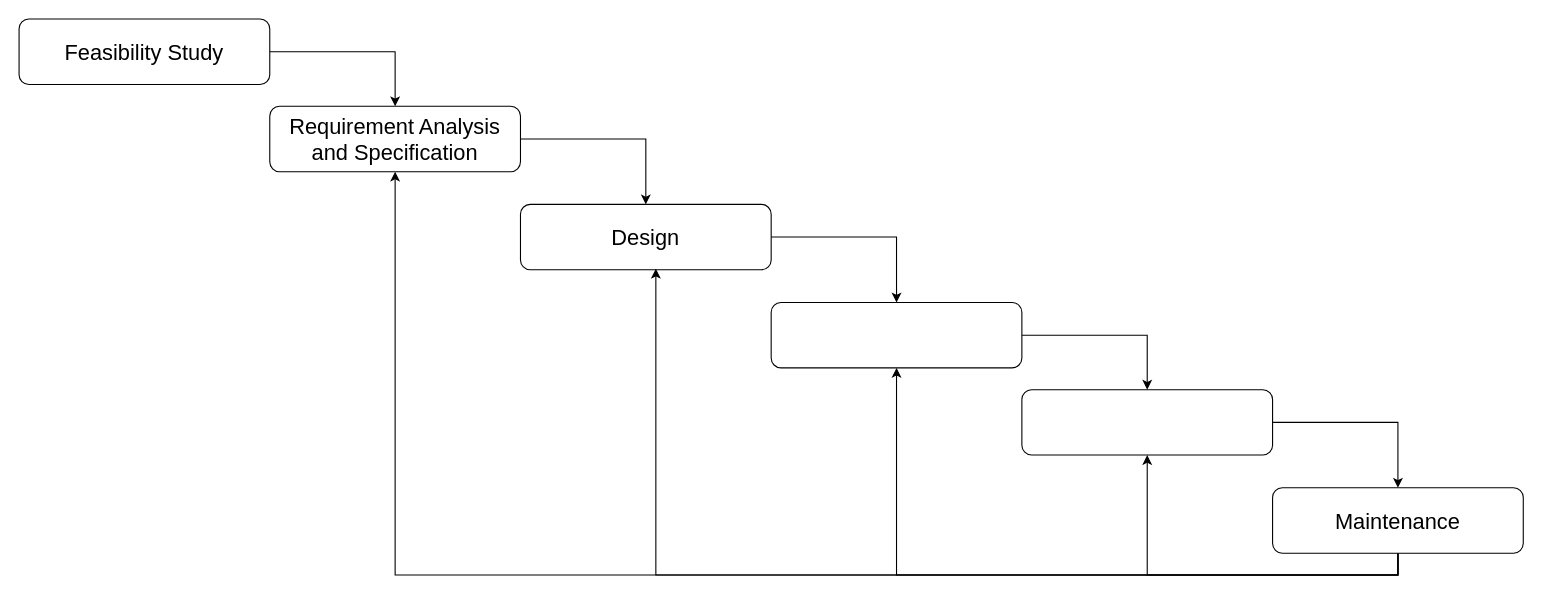
This 1542x603 diagram has some shape labels left out. Each missing label, with the centre of its shape:
"Coding and Unit Testing" belongs at pixel 896 334.
"Integration and System Testing" belongs at pixel 1147 422.
